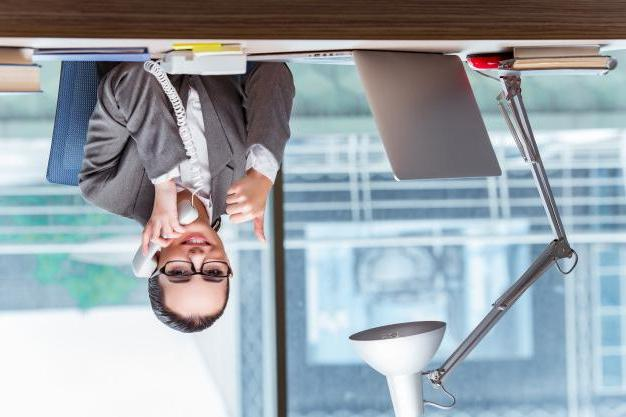thumbsdown: (225, 185, 268, 244)
